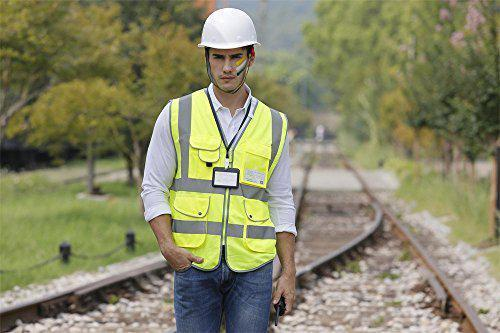helmet: (197, 7, 261, 49)
